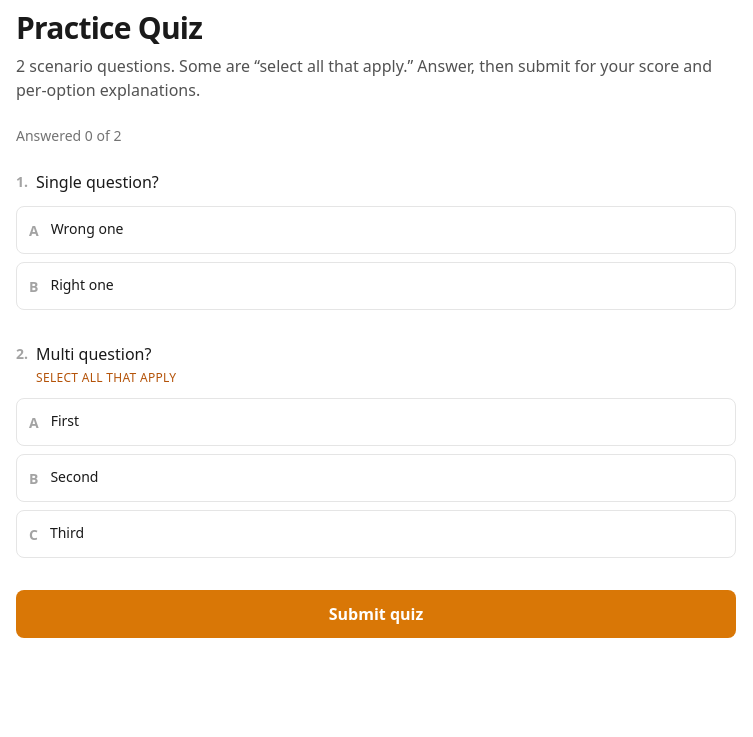
Test: QuizRunner › marks an incorrect single-answer question wrong
Click the text "Wrong one": (87, 228) [51,219,124,238]
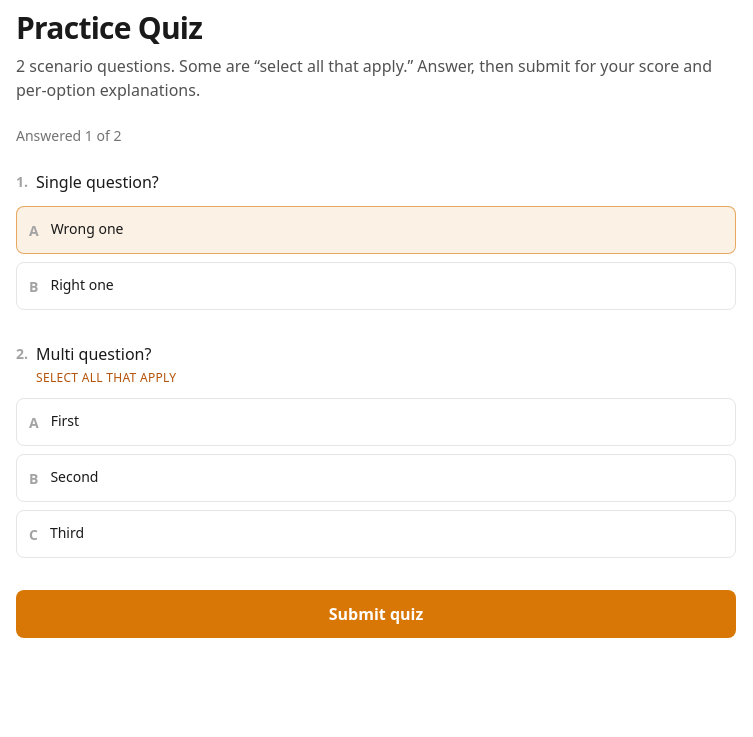
Click the button "Submit quiz": (376, 614) [16,590,736,638]
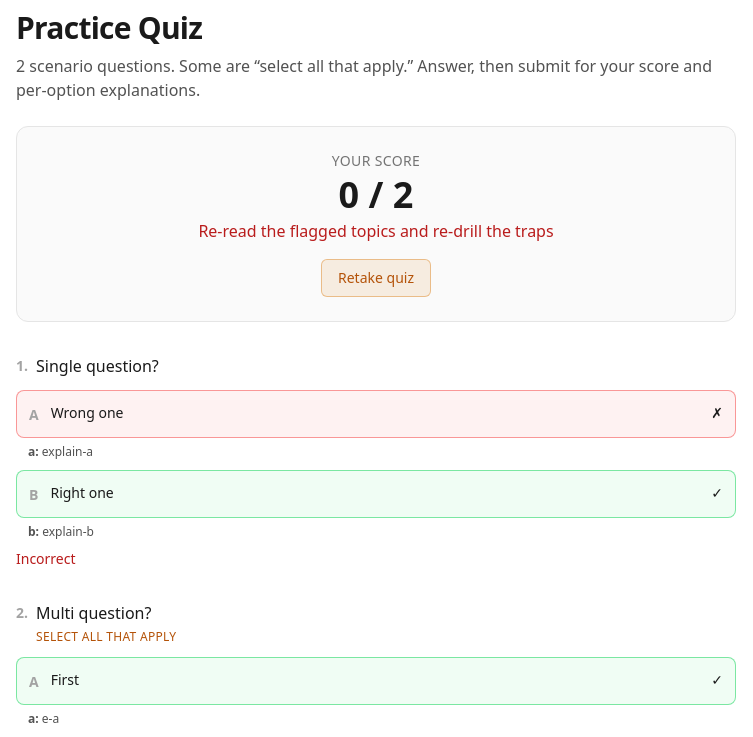
Now the text "0 / 2" is shown, box [339,170,413,219]
Now the text "Incorrect" is shown, box [16,549,76,568]
